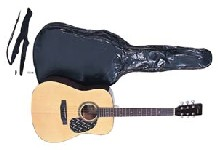guitar: (31, 79, 204, 144)
